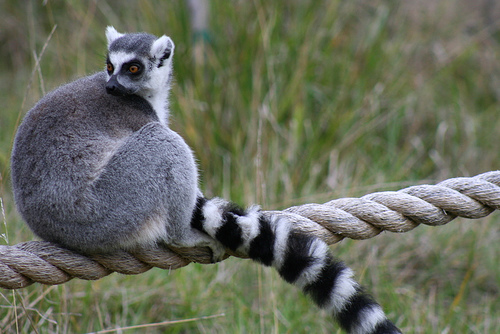cat: (13, 25, 403, 333)
